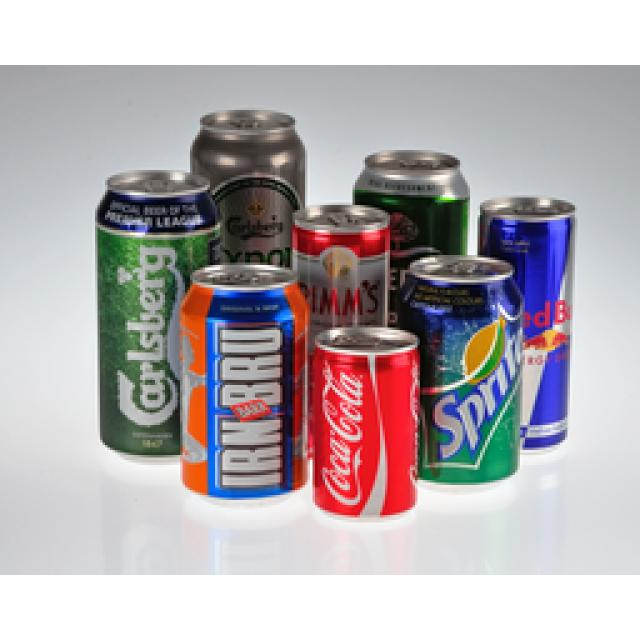aluminum_soda_cans: (104, 172, 204, 458), (185, 263, 303, 497), (414, 263, 518, 477), (490, 200, 573, 455), (317, 327, 413, 515), (200, 111, 295, 256), (355, 150, 472, 250), (298, 205, 387, 322)
